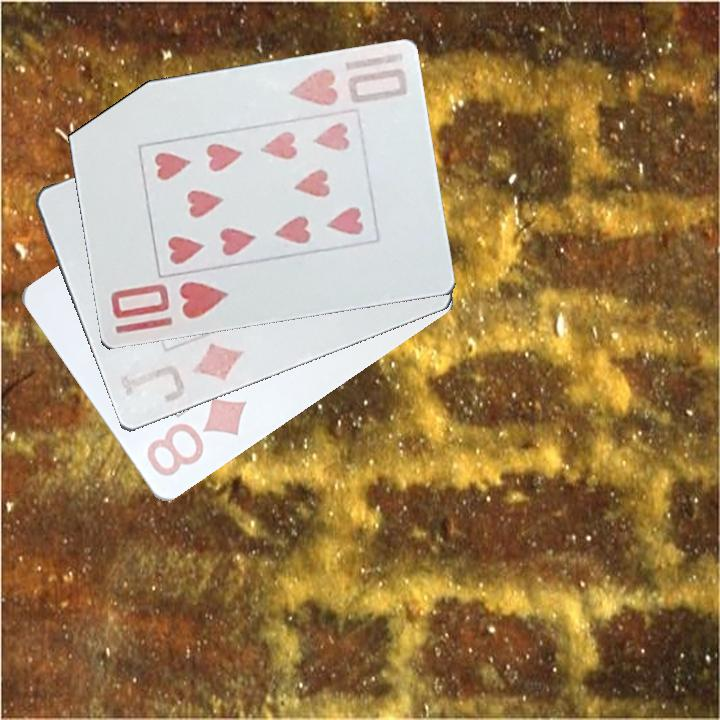8d: (142, 395, 250, 481)
Jd: (116, 340, 246, 407)
Th: (285, 49, 411, 110), (106, 278, 232, 323)
